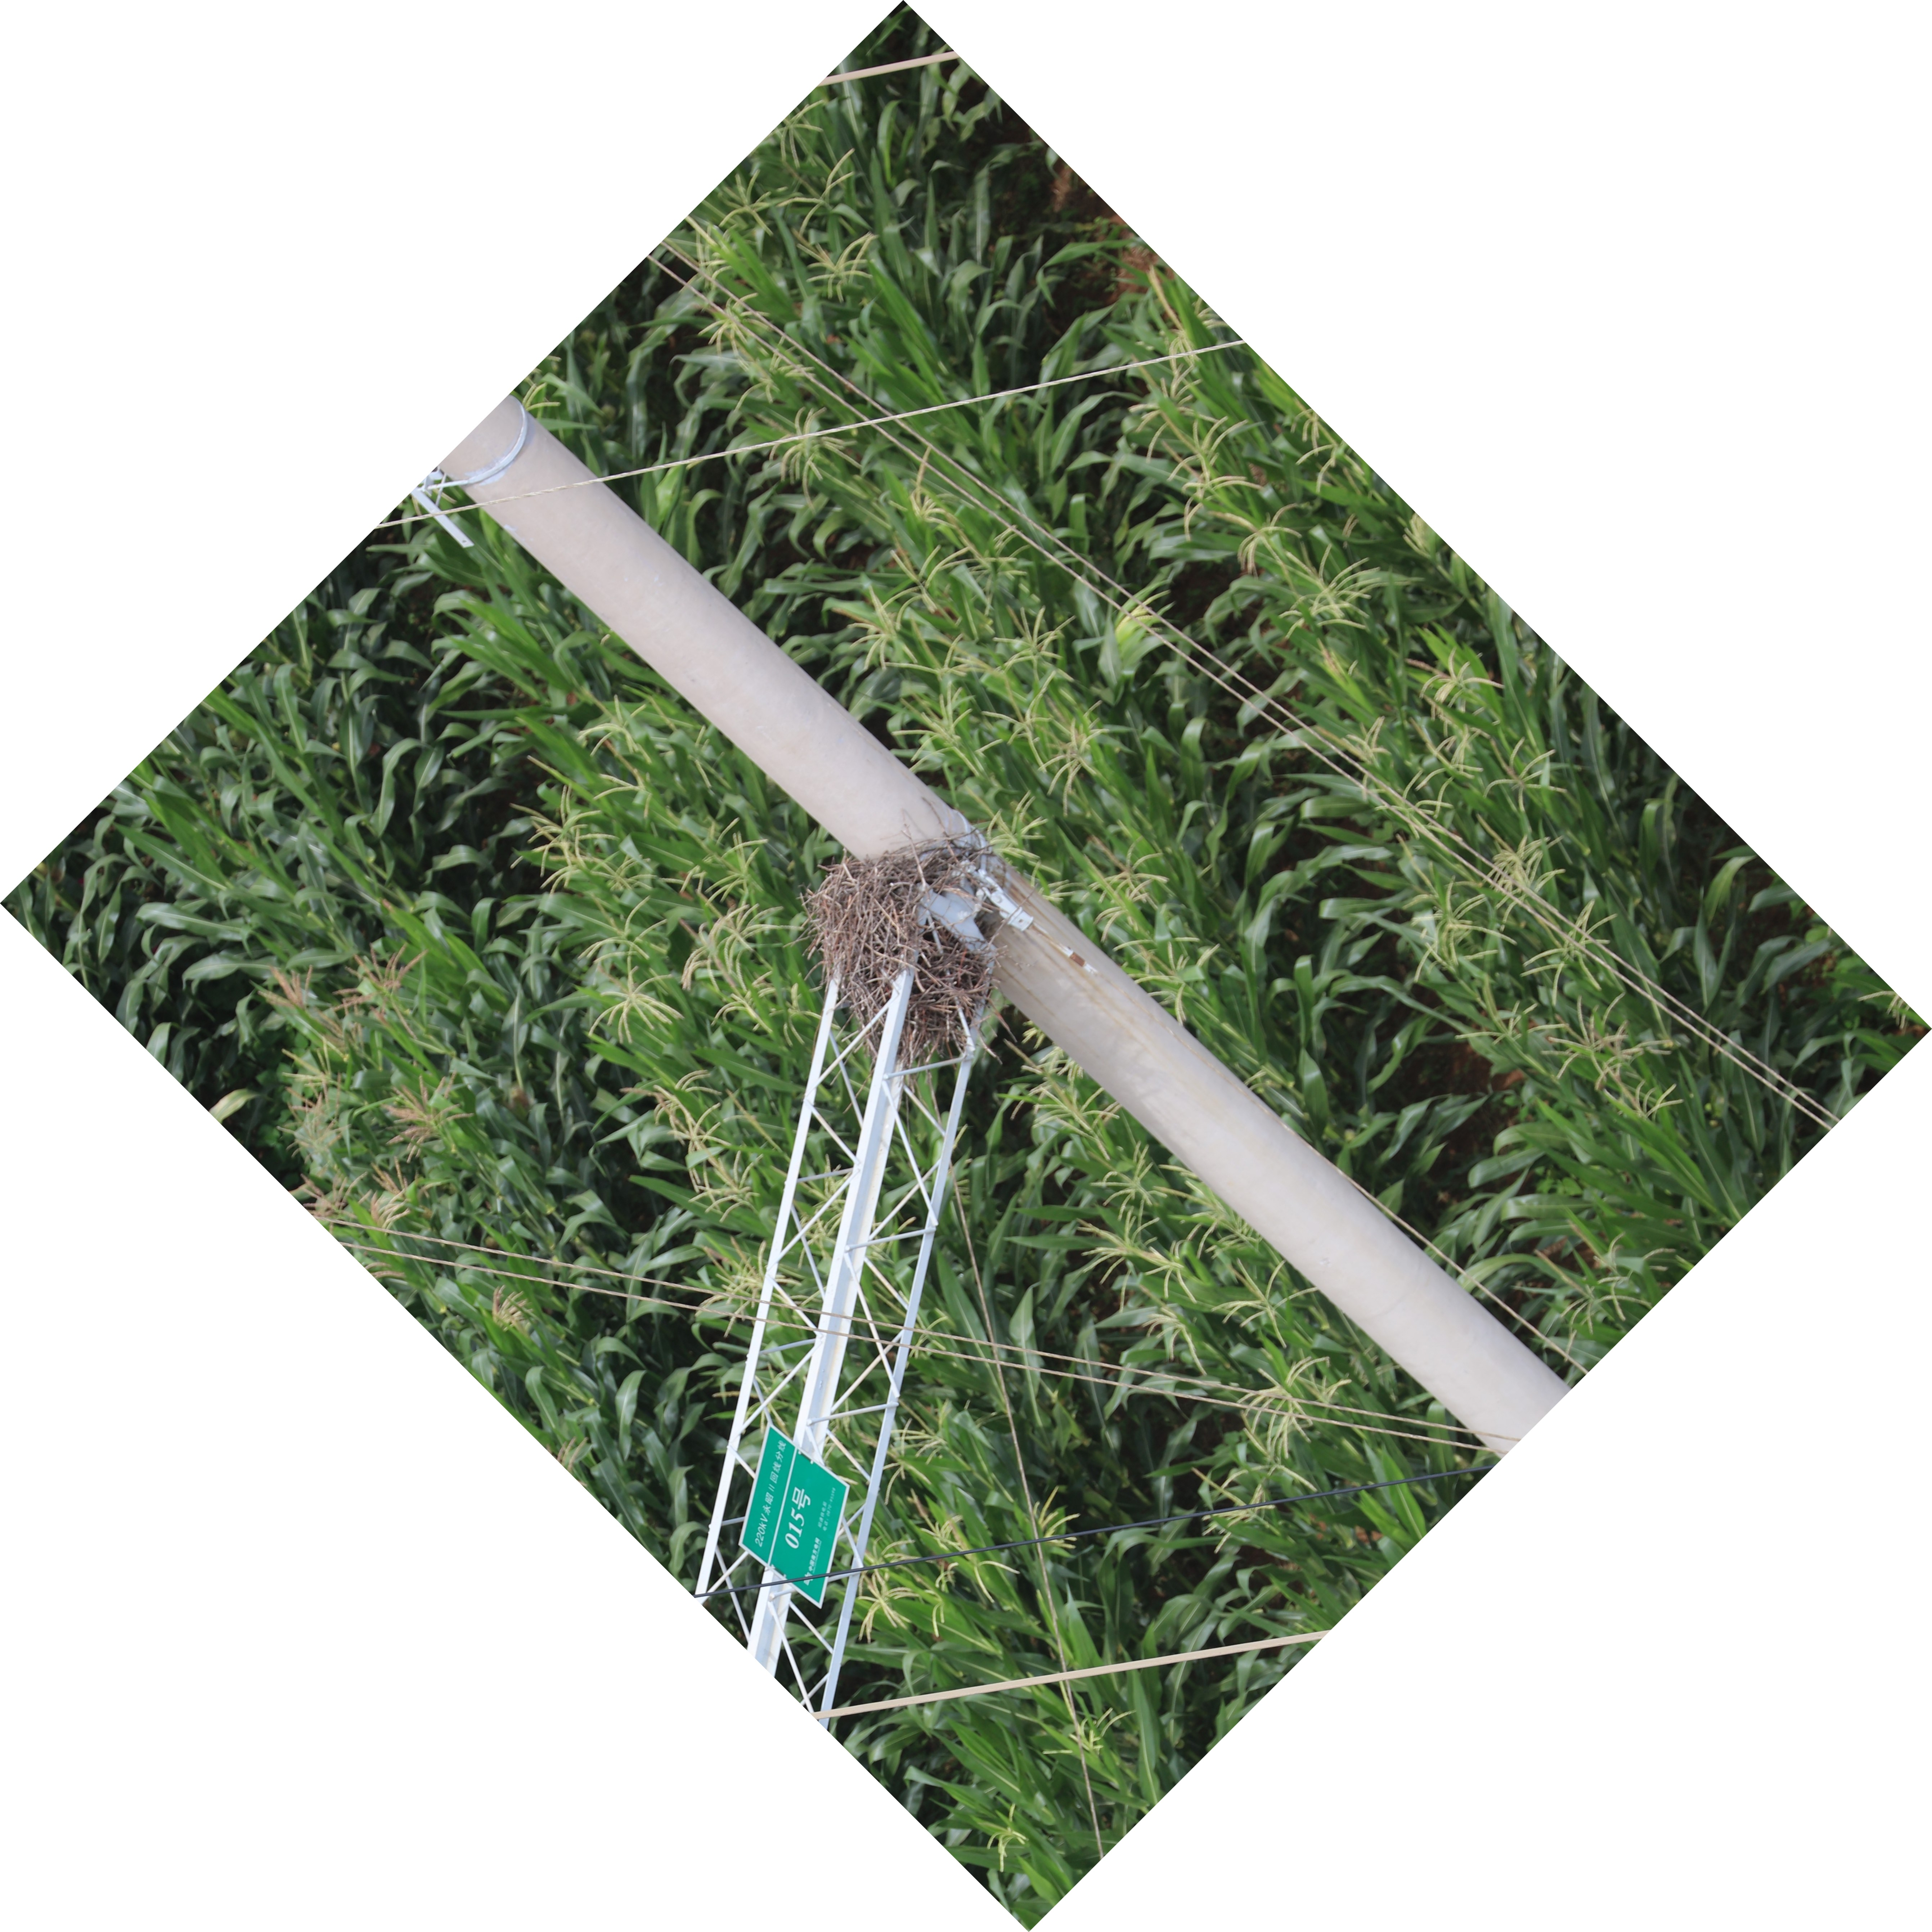niaowo: (757, 821, 1037, 1056)
